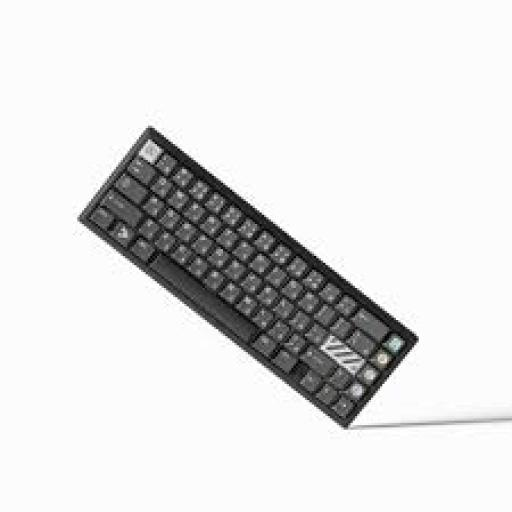keyboard: (80, 128, 414, 425)
